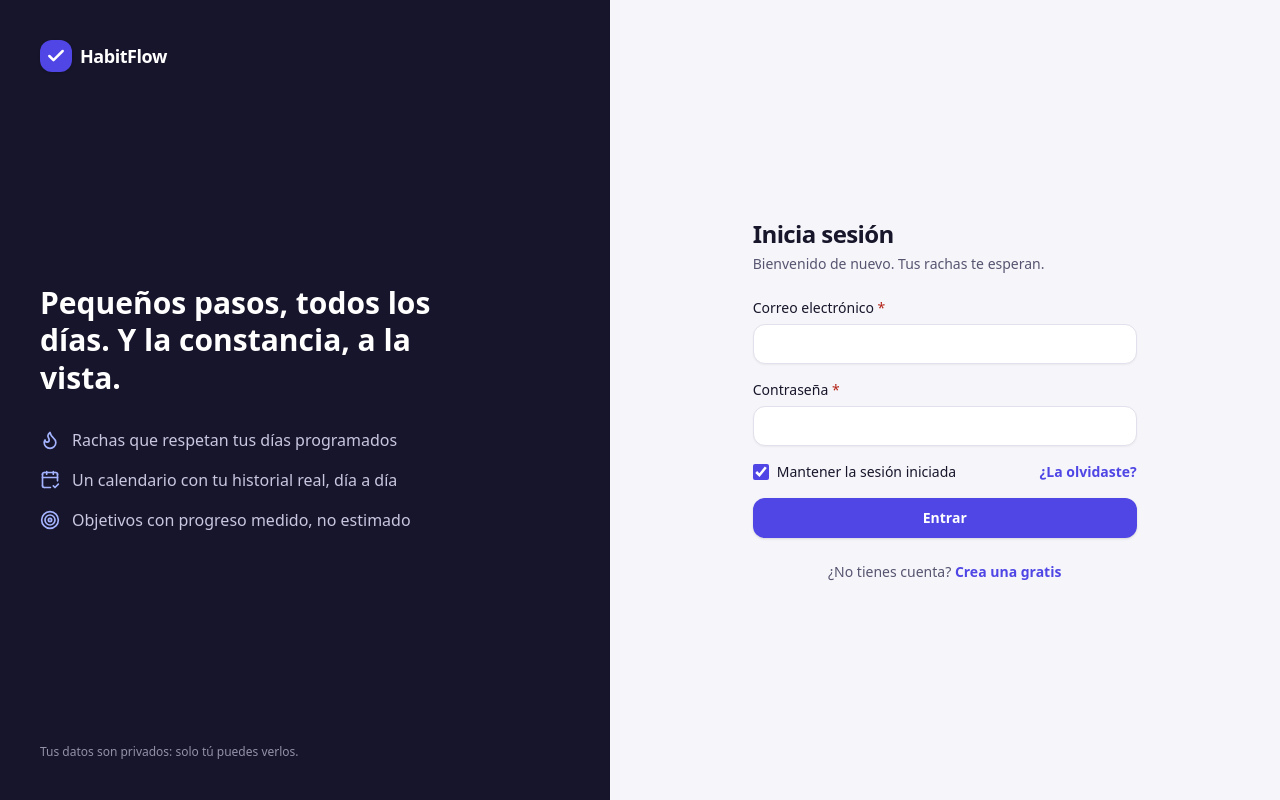
Test case: login › shows the generic API error for wrong credentials
The width and height of the screenshot is (1280, 800).
Type "ana@test.local" into the field labelled "Correo electrónico *".
click(945, 344); type("ana@test.local")  # box x1=753 y1=324 x2=1137 y2=364
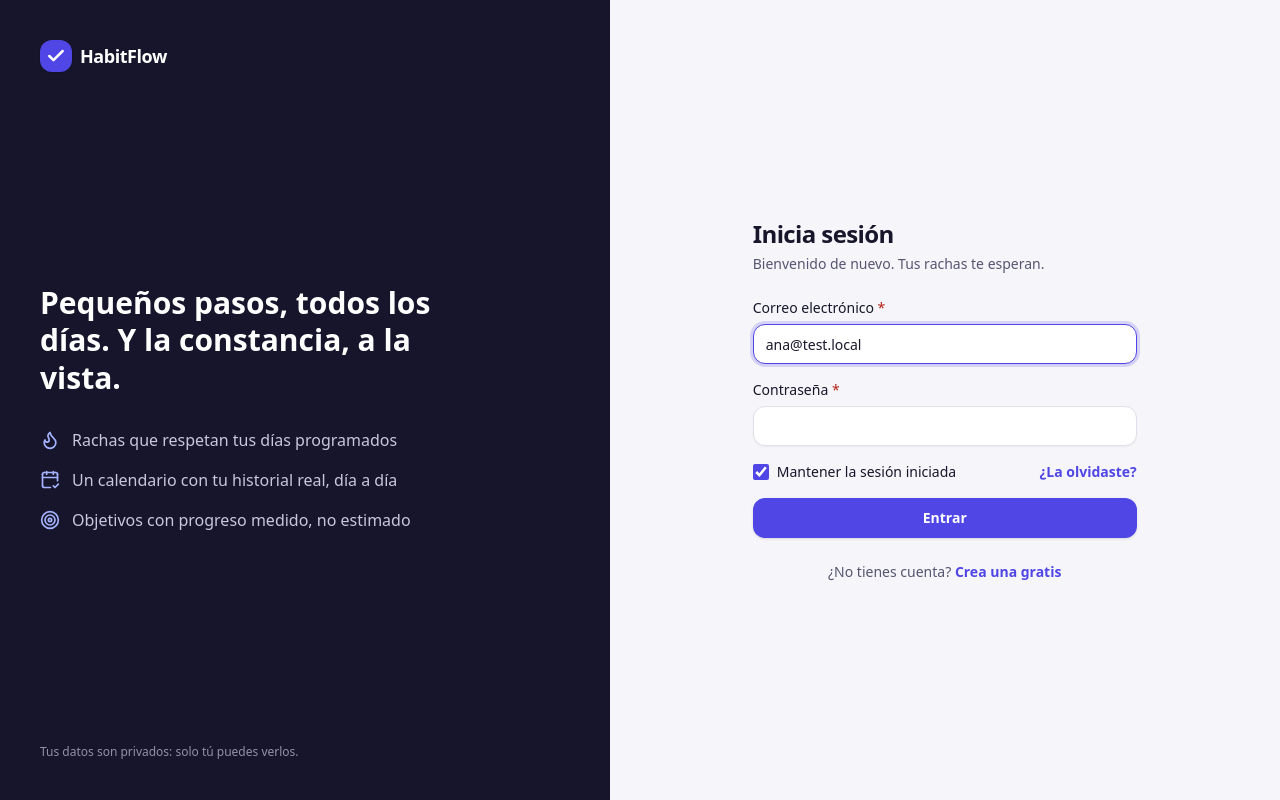
Type "Wrong123" into the password field labelled "Contraseña *".
click(945, 426); type("Wrong123")  # box x1=753 y1=406 x2=1137 y2=446
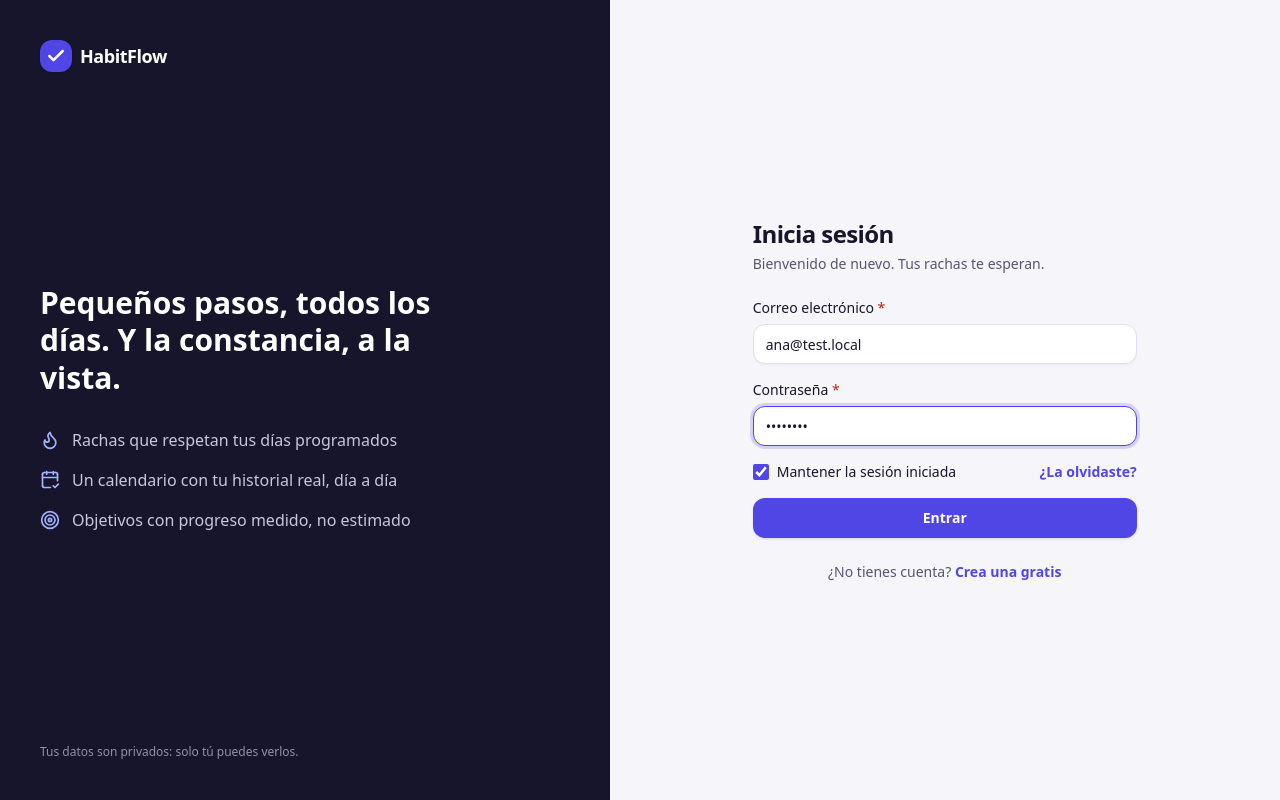
Click the button "Entrar".
click(945, 518)  # box x1=753 y1=498 x2=1137 y2=538
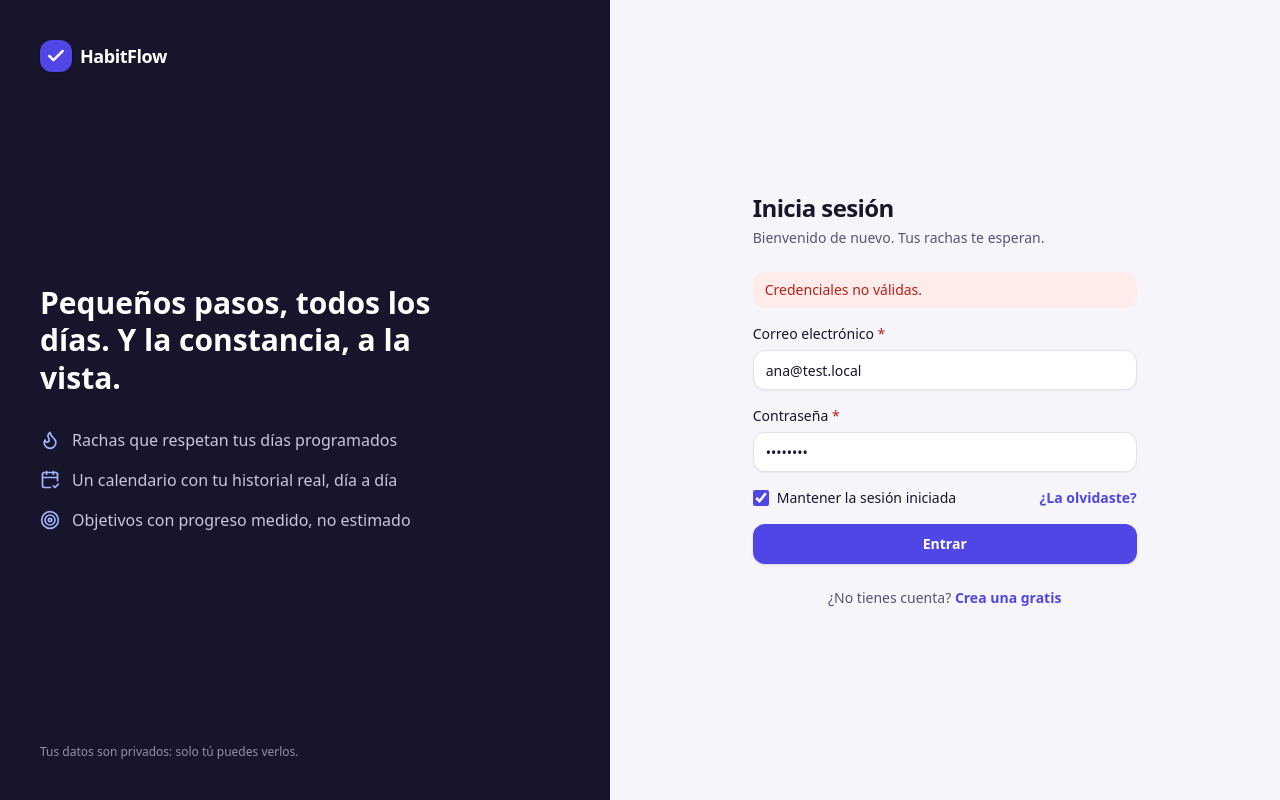
Check: the message reads "Credenciales no válidas.", box x1=765 y1=280 x2=922 y2=299
